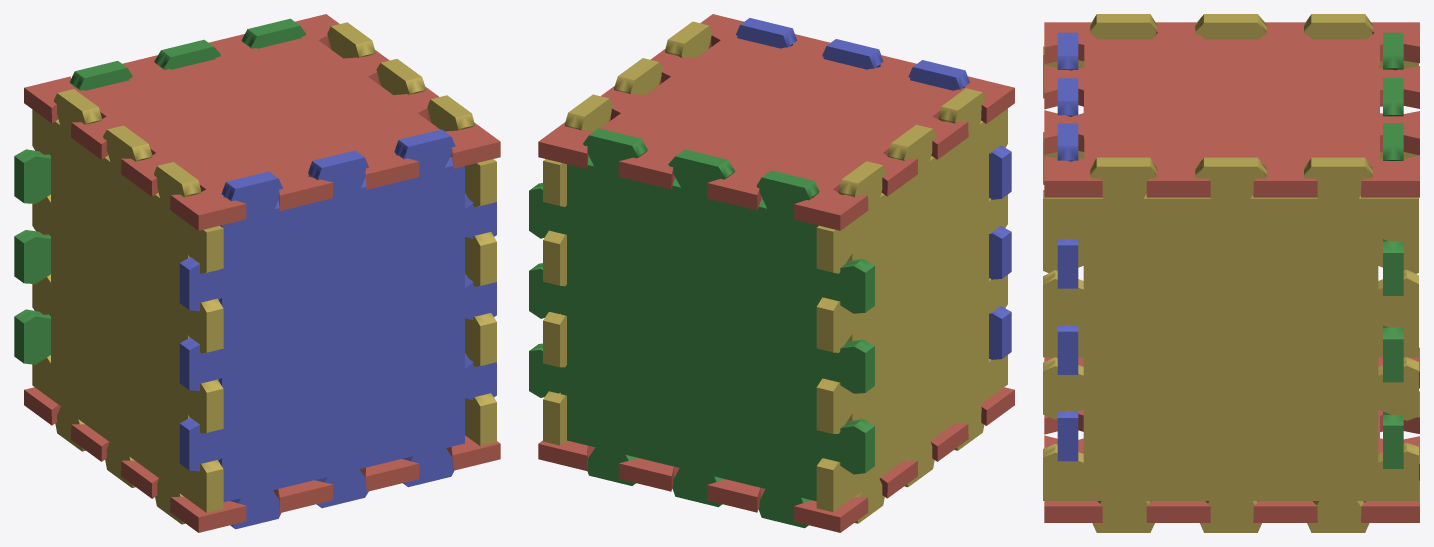
Rendered from ToyCube.fbx.
The picture shows the model from 3 angles, left to right: view 1: azimuth 30°, elevation 25°; view 2: azimuth 150°, elevation 25°; view 3: azimuth 270°, elevation 25°; orthographic projection. The views are drawn at different scales.
Parts seen in each view (by area): view 1: cubopiso; view 2: cubopiso; view 3: cubopiso.
Part boxes in pixels (x1,y1,x2,y2): cubopiso: [14, 14, 500, 532]; cubopiso: [529, 14, 1014, 532]; cubopiso: [1043, 14, 1419, 532].
Bounding box in the file's own units: 4.45 × 4.3 × 4.01.
